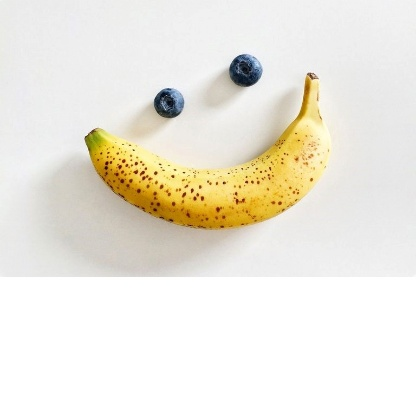chuoi: (72, 82, 339, 243)
